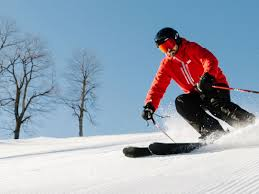skis: (122, 141, 215, 159)
